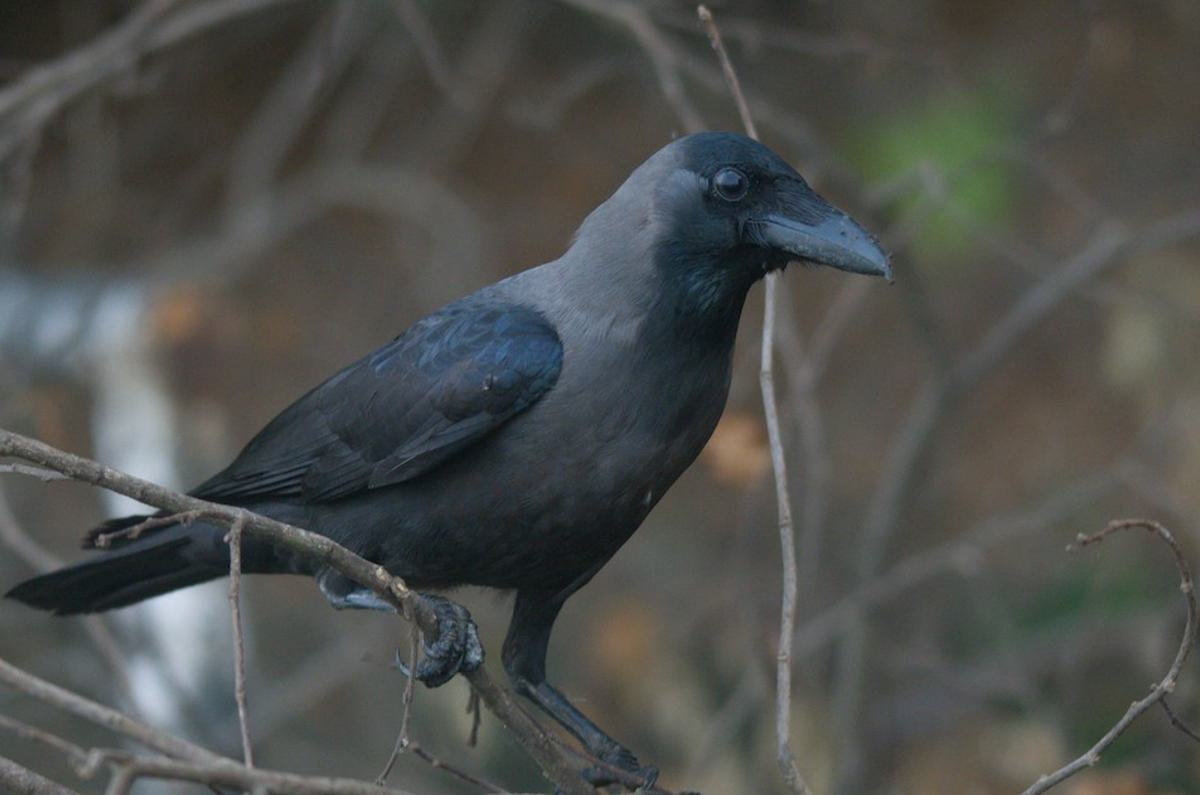crow: (106, 117, 922, 721)
